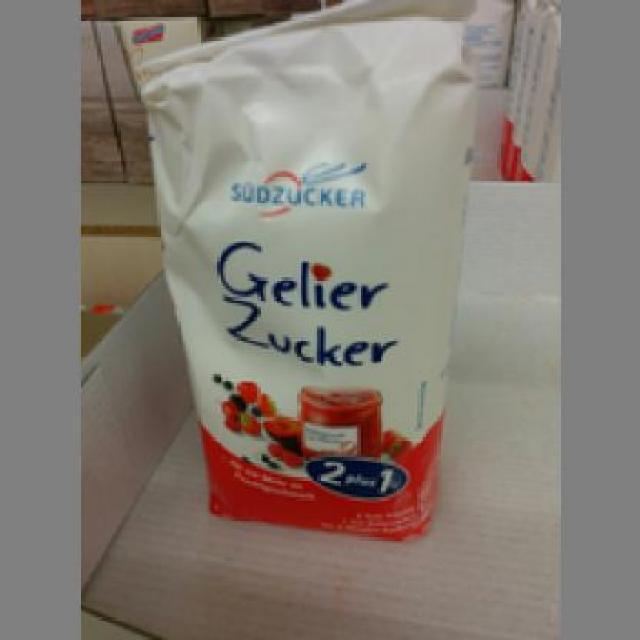Sugar: (126, 3, 474, 540)
